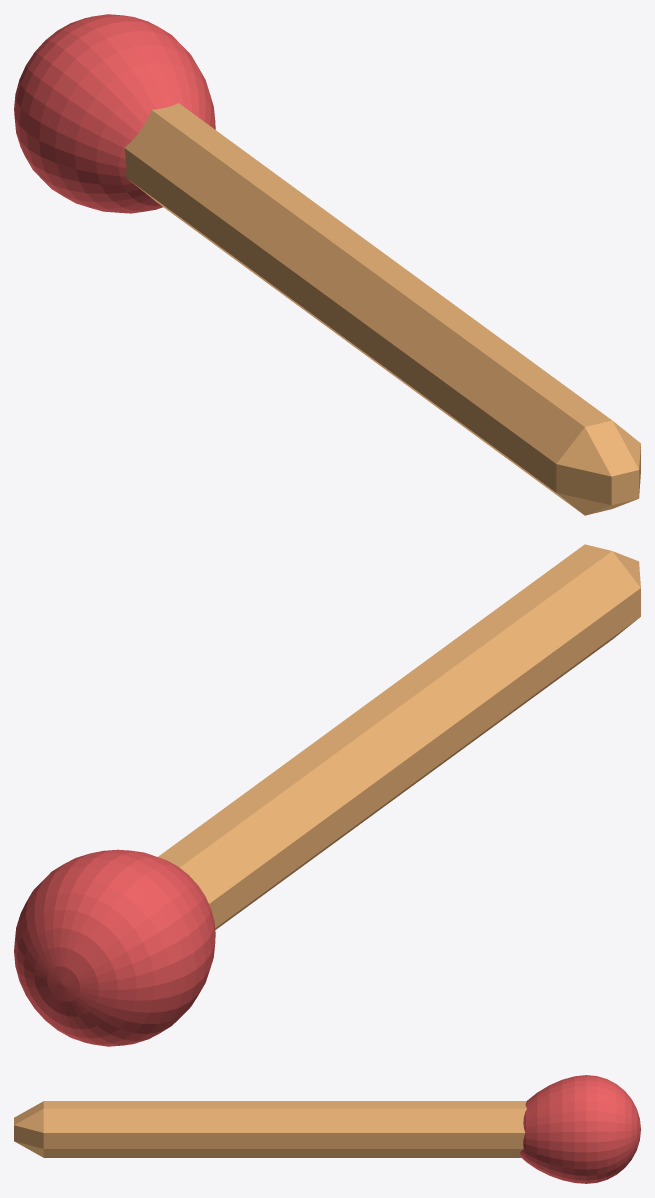
Rendered from Match.fbx.
3 views of the same model, one above another, from view 1: azimuth 30°, elevation 25°; view 2: azimuth 150°, elevation 25°; view 3: azimuth 270°, elevation 25° (orthographic). The views are drawn at different scales.
Parts seen in each view (by area): view 1: Sphere; view 2: Sphere; view 3: Sphere.
Part boxes in pixels (<box>): Sphere: <box>14,14,640,515</box>; Sphere: <box>14,544,640,1046</box>; Sphere: <box>14,1075,640,1183</box>.
Bounding box in the file's own units: 400 × 400 × 2301.
